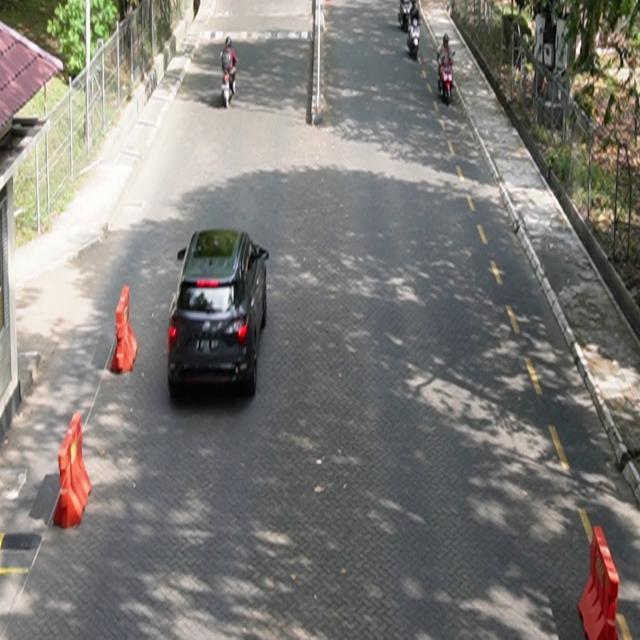car: (167, 228, 270, 399)
